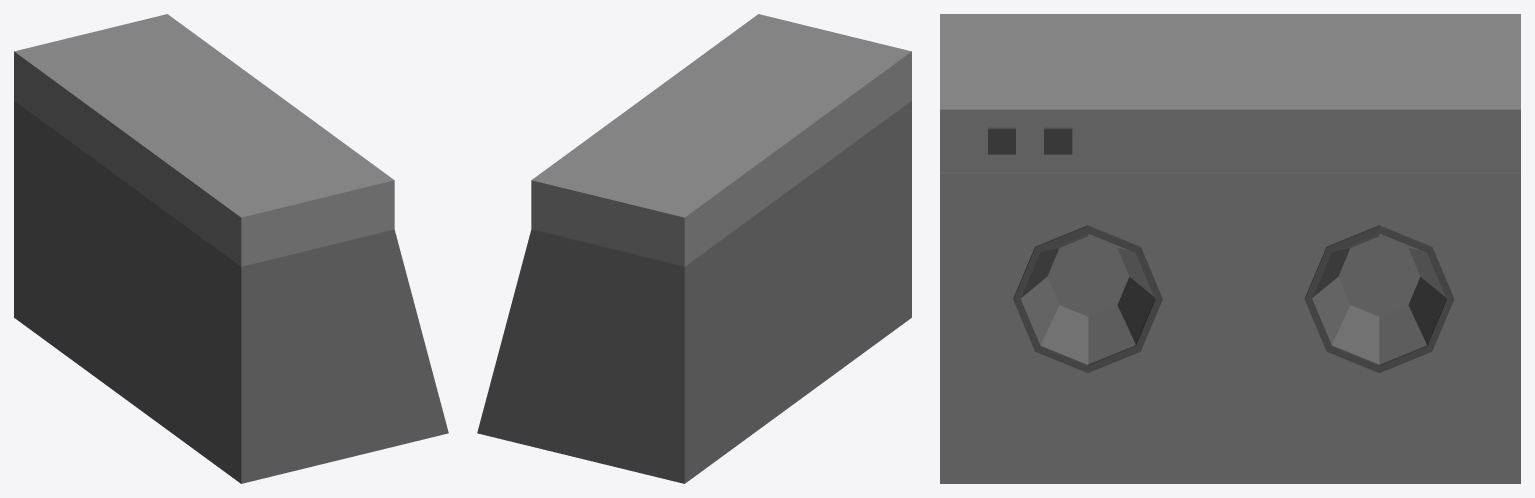
Rendered from Box Sarung tangan.fbx.
The picture shows the model from 3 angles, left to right: view 1: azimuth 30°, elevation 25°; view 2: azimuth 150°, elevation 25°; view 3: azimuth 270°, elevation 25°; orthographic projection. The views are drawn at different scales.
Parts seen in each view (by area): view 1: Cube.072; view 2: Cube.072; view 3: Cube.072.
Part boxes in pixels (x1,y1,x2,y2): Cube.072: (14, 14, 448, 483); Cube.072: (477, 14, 911, 483); Cube.072: (940, 14, 1520, 483).
Size of the model in its own units: 86.68 by 106 by 164.
1 material, 1 textured.
